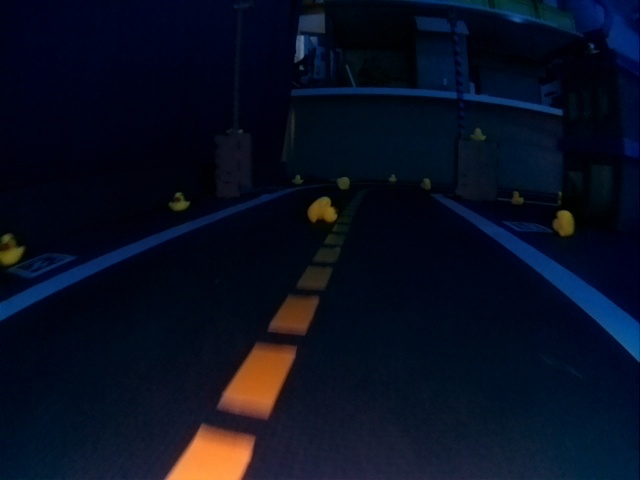Duckie: (0, 234, 24, 266), (309, 198, 335, 221), (554, 211, 575, 235), (169, 192, 190, 212), (472, 128, 487, 140), (511, 191, 523, 200), (336, 177, 346, 187), (422, 177, 432, 186), (390, 173, 399, 182), (295, 176, 303, 184)
QR code: (14, 252, 70, 278), (504, 223, 551, 232)
